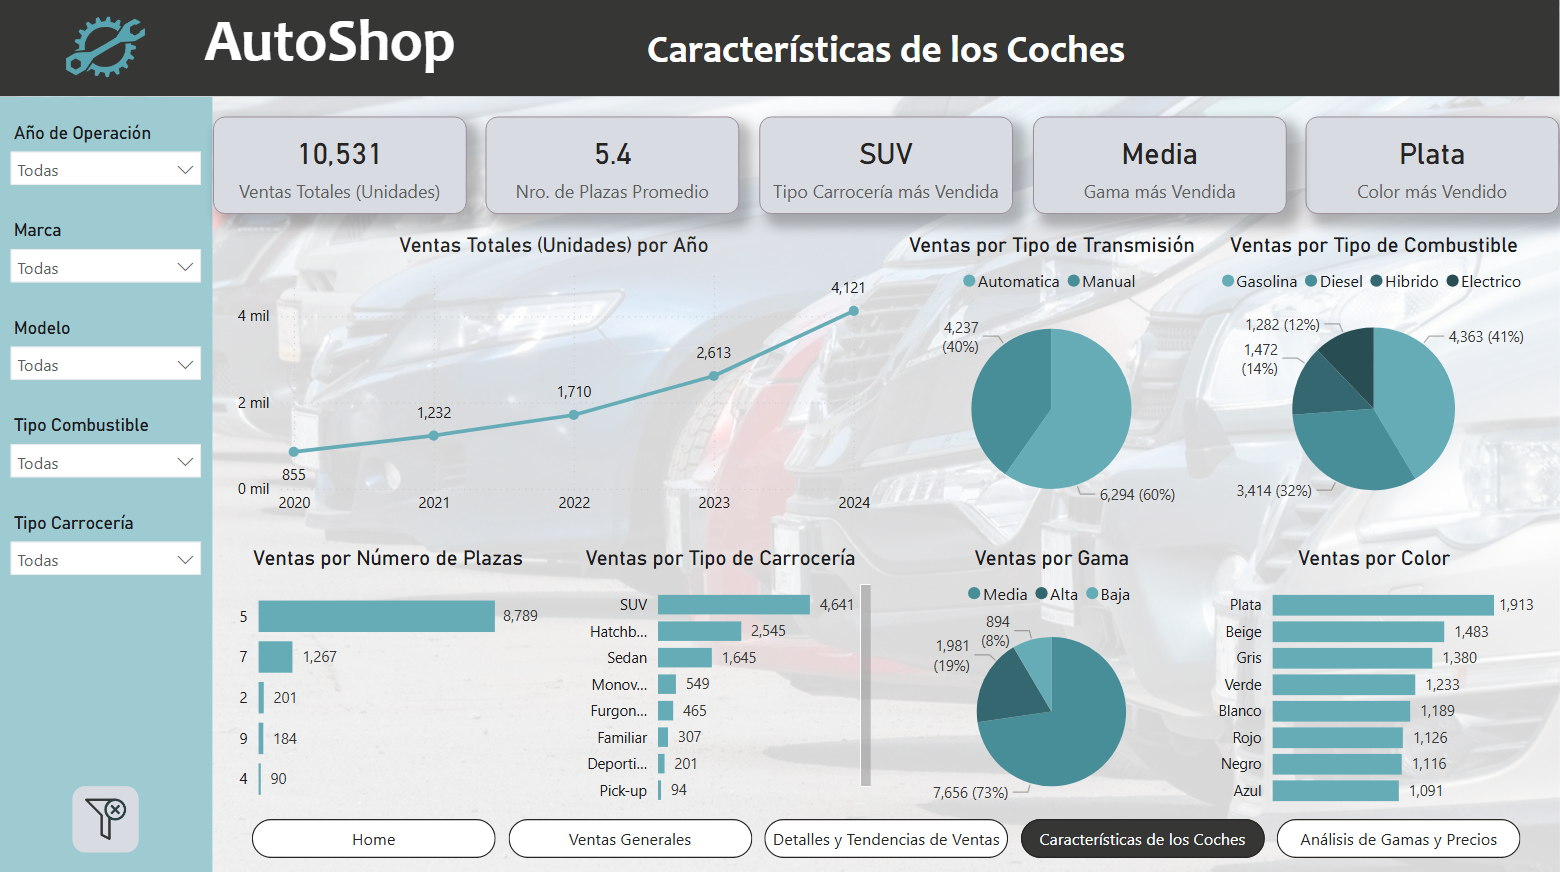

The page's visual inventory and layout, read from the dashboard file:
{"tool":"powerbi","page":{"name":"Características de los Coches","canvas":[1280,720],"ordinal":3},"visuals":[{"type":"shape","box":[0,80,176,640],"z":0},{"type":"shape","box":[0,0,1280,80],"z":2000},{"type":"slicer","fields":{"Values":["Calendario.Año"]},"box":[0,96,176,80],"z":3000},{"type":"textbox","box":[128,0,288,80],"z":4000},{"type":"slicer","fields":{"Values":["DIM_modelos.modelo"]},"box":[0,256,176,80],"z":5000},{"type":"card","fields":{"Values":["_TMedidas_Ventas.VentasTotalesUnid"]},"box":[176,96,208,80],"z":6000},{"type":"textbox","box":[496,16,464,64],"z":7000},{"type":"slicer","fields":{"Values":["DIM_marcas.marca"]},"box":[0,176,176,80],"z":8000},{"type":"pieChart","title":"Ventas por Tipo de Transmisión","fields":{"Y":["_TMedidas_Ventas.VentasTotalesUnid"],"Category":["DIM_modelos.tipo_transmision"]},"box":[736,192,256,240],"z":9000},{"type":"clusteredBarChart","title":"Ventas por Número de Plazas","fields":{"Category":["DIM_modelos.numero_plazas"],"Y":["_TMedidas_Ventas.VentasTotalesUnid"]},"box":[192,448,256,224],"z":10000},{"type":"pieChart","title":"Ventas por Gama","fields":{"Category":["DIM_modelos.gama_modelo"],"Y":["_TMedidas_Ventas.VentasTotalesUnid"]},"box":[736,448,256,224],"z":11000},{"type":"pieChart","title":"Ventas por Tipo de Combustible","fields":{"Y":["_TMedidas_Ventas.VentasTotalesUnid"],"Category":["DIM_modelos.tipo_combustible"]},"box":[992,192,272,240],"z":12000},{"type":"lineChart","title":"Ventas Totales (Unidades) por Año","fields":{"Category":["Calendario.Año"],"Y":["_TMedidas_Ventas.VentasTotalesUnid"]},"box":[192,192,528,240],"z":13000},{"type":"clusteredBarChart","title":"Ventas por Tipo de Carrocería","fields":{"Y":["_TMedidas_Ventas.VentasTotalesUnid"],"Category":["DIM_modelos.tipo_carroceria"]},"box":[464,448,256,224],"z":14000},{"type":"slicer","fields":{"Values":["DIM_modelos.tipo_combustible"]},"box":[0,336,176,80],"z":15000},{"type":"slicer","fields":{"Values":["DIM_modelos.tipo_carroceria"]},"box":[0,416,176,80],"z":16000},{"type":"card","fields":{"Values":["_TMedidas_Ventas.PlazasPromedio"]},"box":[400,96,208,80],"z":17000},{"type":"card","fields":{"Values":["_TMedidas_Ventas.CarroceriaMasVendida"]},"box":[624,96,208,80],"z":18000},{"type":"card","fields":{"Values":["_TMedidas_Ventas.ColorMasVendido"]},"box":[1072,96,208,80],"z":19000},{"type":"card","fields":{"Values":["_TMedidas_Ventas.GamaMasVendida"]},"box":[848,96,208,80],"z":20000},{"type":"clusteredBarChart","title":"Ventas por Color","fields":{"Y":["_TMedidas_Ventas.VentasTotalesUnid"],"Category":["DIM_modelos.color"]},"box":[992,448,272,224],"z":21000},{"type":"image","box":[48,0,80,80],"z":22000},{"type":"image","box":[48,640,80,64],"z":23000},{"type":"pageNavigator","box":[208,672,1040,32],"z":24000}]}

Visuals, with their boxes in screenshot pixels (x1, y1, x2, y2), scaled from the page's 1280x720 canvas onto the 1560x872 screenshot:
shape: 0,97,214,871
shape: 0,0,1559,97
slicer - Calendario.Año: 0,116,214,213
textbox: 156,0,507,97
slicer - DIM_modelos.modelo: 0,310,214,407
card - _TMedidas_Ventas.VentasTotalesUnid: 214,116,468,213
textbox: 604,19,1170,97
slicer - DIM_marcas.marca: 0,213,214,310
"Ventas por Tipo de Transmisión" pieChart: 897,233,1209,523
"Ventas por Número de Plazas" clusteredBarChart: 234,543,546,814
"Ventas por Gama" pieChart: 897,543,1209,814
"Ventas por Tipo de Combustible" pieChart: 1209,233,1540,523
"Ventas Totales (Unidades) por Año" lineChart: 234,233,878,523
"Ventas por Tipo de Carrocería" clusteredBarChart: 566,543,878,814
slicer - DIM_modelos.tipo_combustible: 0,407,214,504
slicer - DIM_modelos.tipo_carroceria: 0,504,214,601
card - _TMedidas_Ventas.PlazasPromedio: 488,116,741,213
card - _TMedidas_Ventas.CarroceriaMasVendida: 760,116,1014,213
card - _TMedidas_Ventas.ColorMasVendido: 1306,116,1559,213
card - _TMedidas_Ventas.GamaMasVendida: 1034,116,1287,213
"Ventas por Color" clusteredBarChart: 1209,543,1540,814
image: 58,0,156,97
image: 58,775,156,853
pageNavigator: 254,814,1521,853
